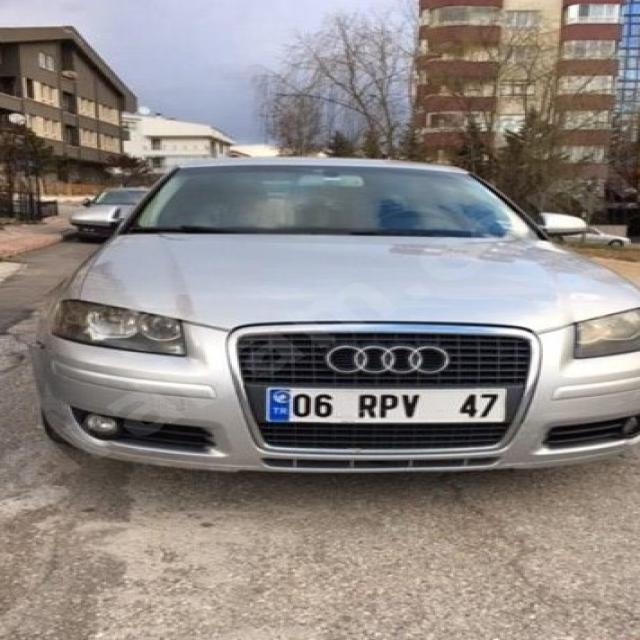license_plate: (265, 388, 506, 424)
